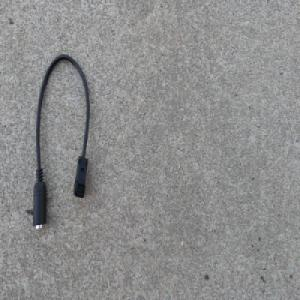Wire: (31, 50, 92, 236)
